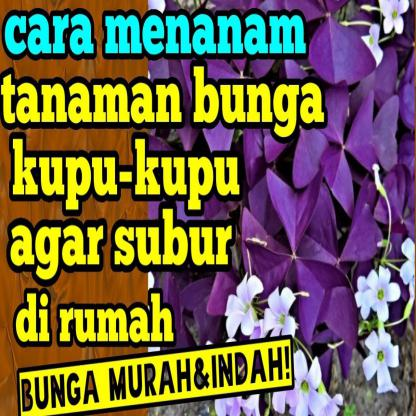Kupu-Kupu: (262, 197, 328, 320), (302, 1, 377, 83), (319, 95, 379, 183)
